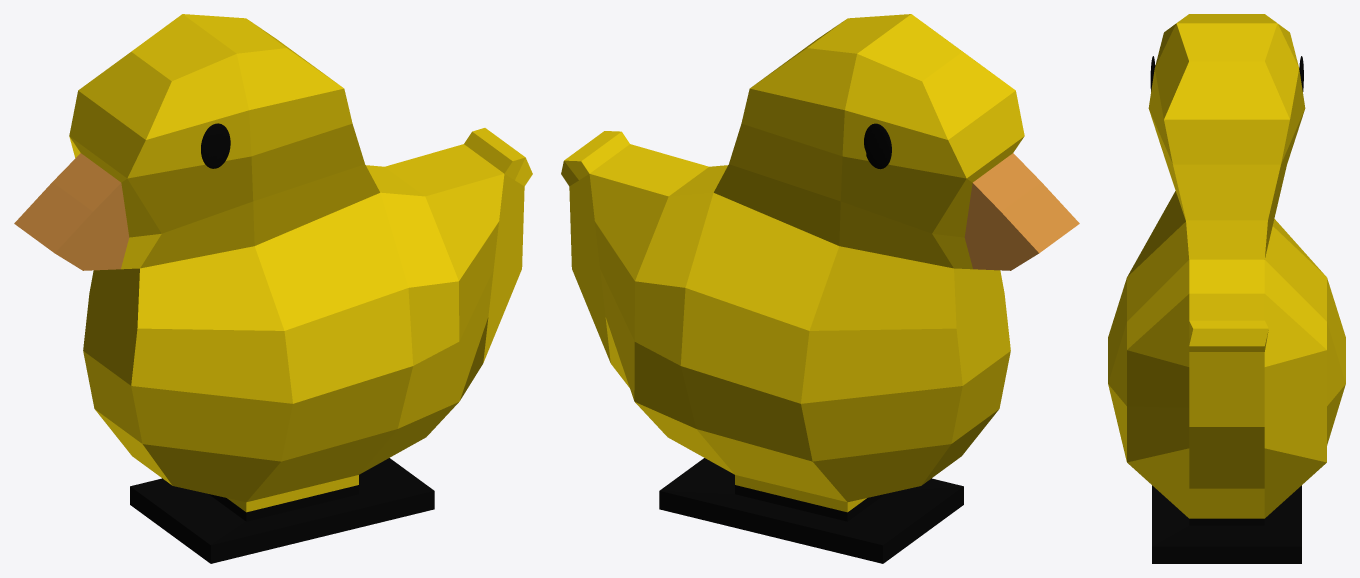
File: patoamarillo.glb
3 views of the same model, side by side, from view 1: azimuth 30°, elevation 25°; view 2: azimuth 150°, elevation 25°; view 3: azimuth 270°, elevation 25° (orthographic). The views are drawn at different scales.
Visible parts, largest first — view 1: Cube.002, Sphere.001; view 2: Cube.002, Sphere; view 3: Cube.002.
Part boxes in pixels (x1,y1,x2,y2): Cube.002: [14, 14, 532, 563]; Sphere.001: [201, 123, 230, 168]; Cube.002: [561, 14, 1079, 563]; Sphere: [864, 123, 891, 169]; Cube.002: [1108, 14, 1345, 563].
Size of the model in its own units: 2.86 by 2.81 by 1.32.
